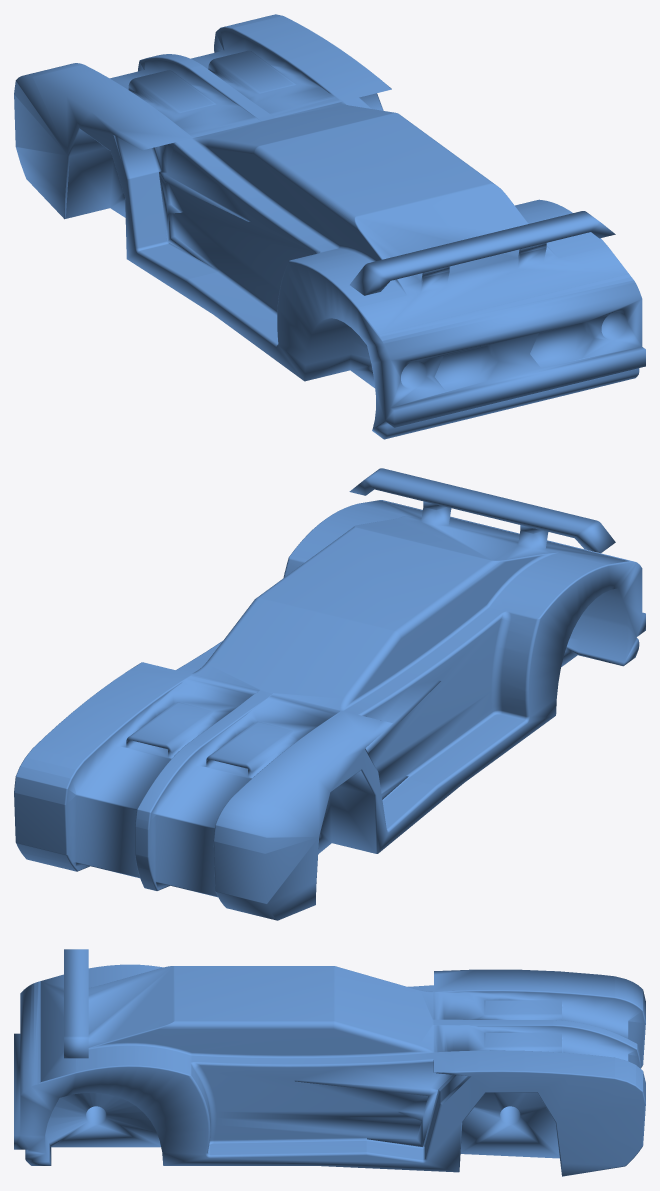
The model's file is dominus.glb.
The picture shows the model from 3 angles, top to bottom: view 1: azimuth 30°, elevation 25°; view 2: azimuth 150°, elevation 25°; view 3: azimuth 270°, elevation 25°; orthographic projection. The views are drawn at different scales.
Parts seen in each view (by area): view 1: geometry_0; view 2: geometry_0; view 3: geometry_0.
Part boxes in pixels (<box>): geometry_0: <box>14,14,645,439</box>; geometry_0: <box>14,468,645,920</box>; geometry_0: <box>14,949,645,1176</box>.
Size of the model in its own units: 1.93 by 1.18 by 5.05.
